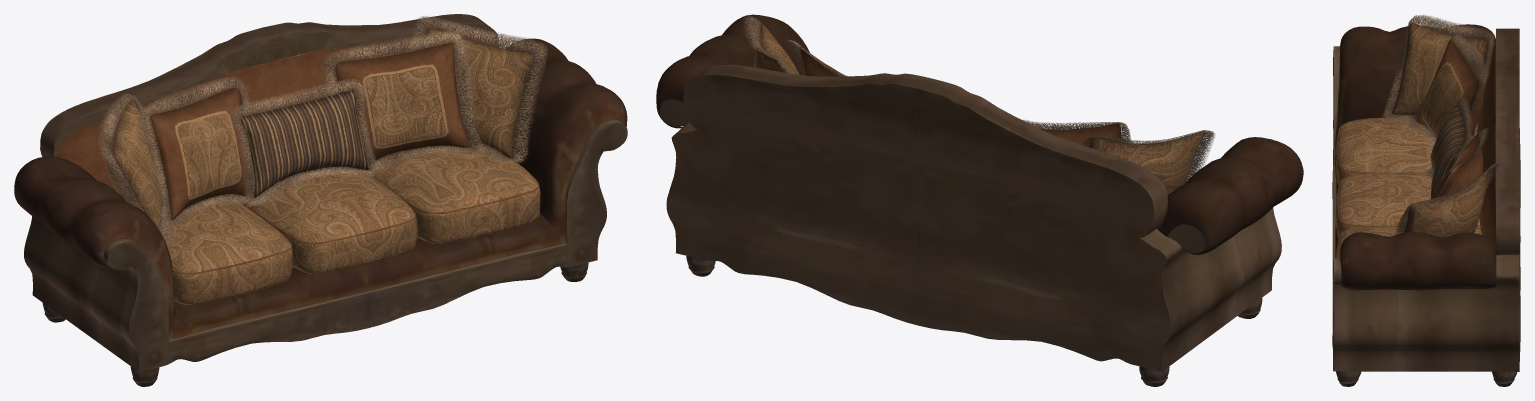
The model's file is ledersofa.glb.
3 renders of one model, left to right at view 1: azimuth 30°, elevation 25°; view 2: azimuth 150°, elevation 25°; view 3: azimuth 270°, elevation 25°, orthographic. The views are drawn at different scales.
Parts seen in each view (by area): view 1: Frame, Paisley, Fringe, Brown, Stripes, Frame_Fabric; view 2: Frame, Paisley, Fringe, Brown; view 3: Frame, Paisley, Fringe, Brown, Frame_Fabric, Stripes.
Boxes of the visible parts, x1,y1,x2,y2 form: Frame: (14, 14, 627, 386); Paisley: (107, 27, 540, 304); Fringe: (98, 16, 547, 245); Brown: (150, 42, 539, 274); Stripes: (174, 64, 448, 199); Frame_Fabric: (57, 34, 494, 189); Frame: (656, 14, 1303, 386); Paisley: (754, 23, 1204, 194); Fringe: (743, 15, 1214, 181); Brown: (800, 47, 1121, 146); Frame: (1332, 24, 1520, 386); Paisley: (1335, 23, 1487, 257); Fringe: (1382, 14, 1499, 235); Brown: (1337, 40, 1483, 257); Frame_Fabric: (1477, 39, 1495, 245); Stripes: (1422, 61, 1472, 198).
Size of the model in its own units: 2.73 by 1.12 by 0.9231.
6 materials, 6 textured.
